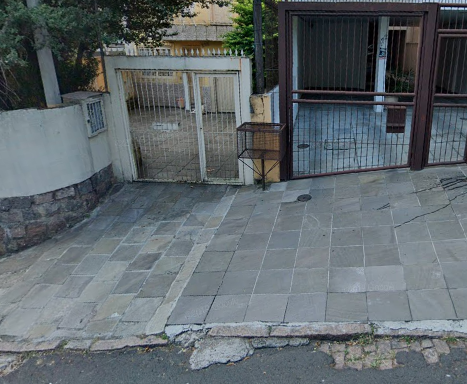vag54: (3, 296, 186, 377)
vag55: (215, 291, 467, 379)
